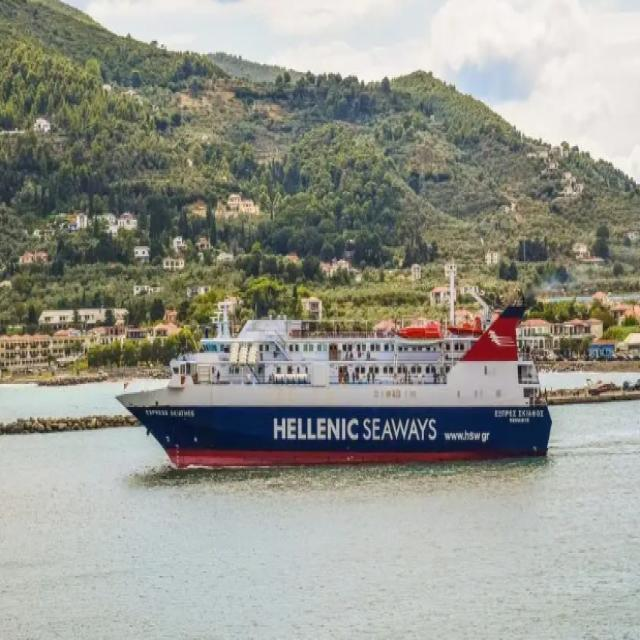passenger ship: (103, 255, 560, 481)
